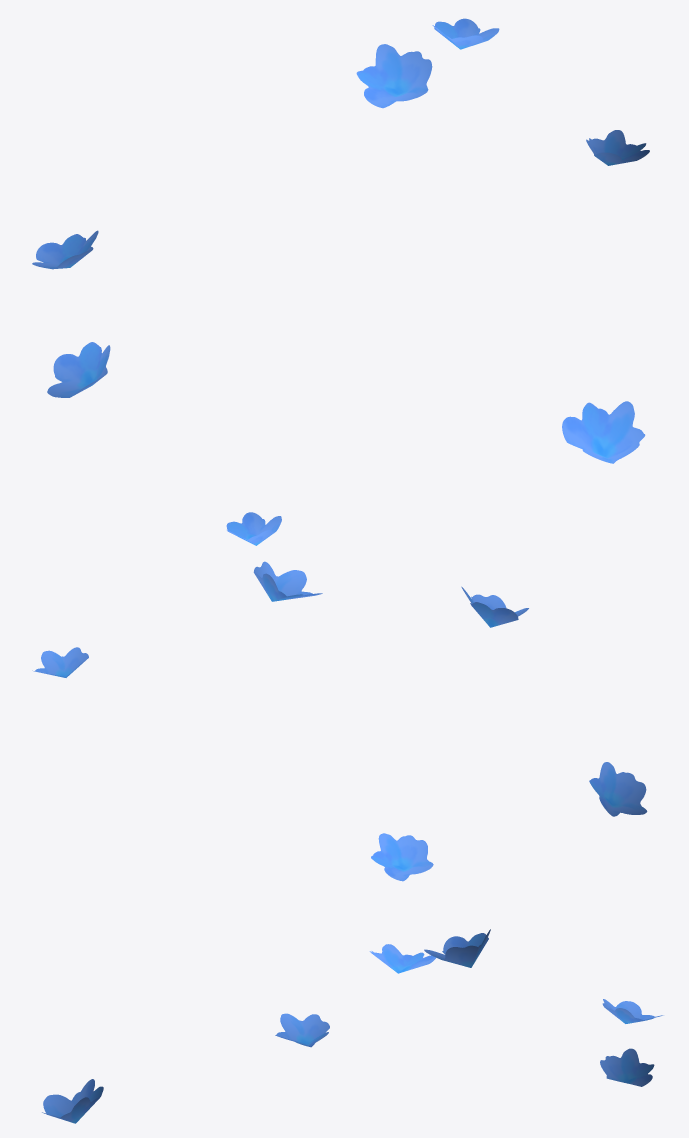
The model's file is hua_02.fbx.
3 views of the same model, one above another, from view 1: azimuth 30°, elevation 25°; view 2: azimuth 150°, elevation 25°; view 3: azimuth 270°, elevation 25° (orthographic). The views are drawn at different scales.
Parts seen in each view (by area): view 1: hua_02; view 2: hua_02; view 3: hua_02.
Boxes of the visible parts, <box> form: hua_02: <box>32,18,649,463</box>; hua_02: <box>32,512,647,881</box>; hua_02: <box>42,929,663,1123</box>.
Size of the model in its own units: 181 by 71.56 by 198.
Materials: 1 (1 with a texture image).
